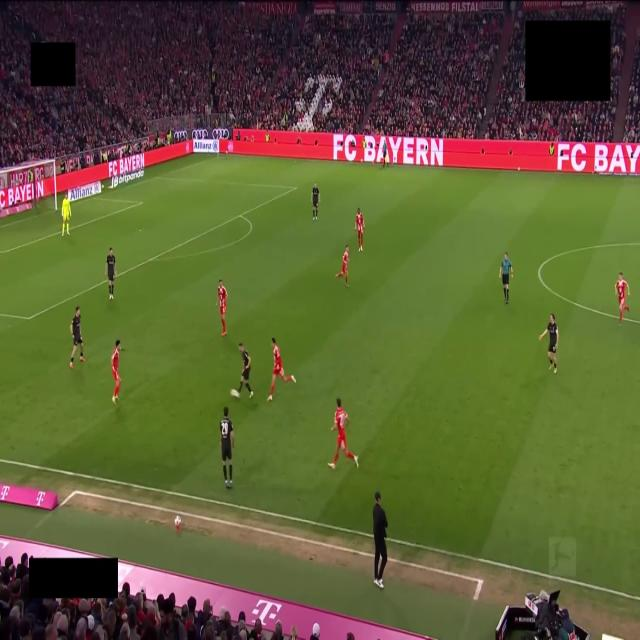ball: (231, 389, 238, 397)
player: (329, 399, 358, 469), (268, 338, 295, 401), (220, 407, 234, 488), (539, 314, 558, 373), (70, 307, 84, 368), (238, 343, 253, 398), (616, 272, 629, 324), (111, 340, 120, 403), (217, 280, 226, 336), (336, 245, 348, 287), (106, 248, 115, 300), (355, 208, 364, 251), (62, 197, 70, 236), (312, 184, 319, 221)
referee: (500, 252, 512, 303)
